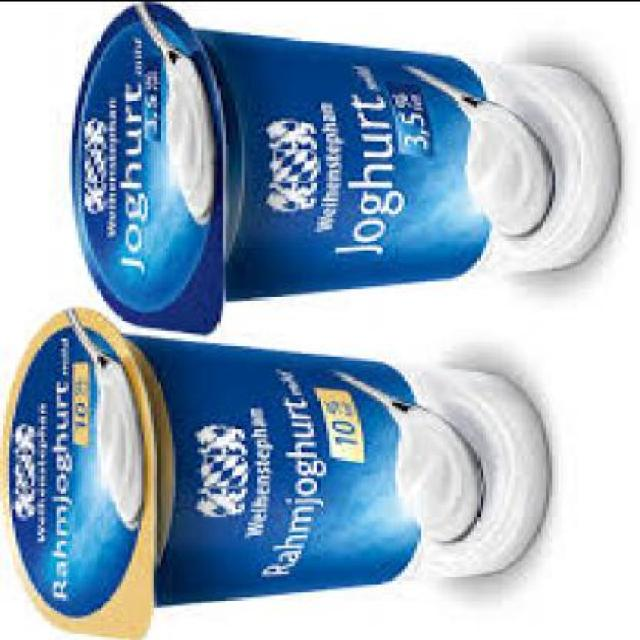PLASTIC: (66, 5, 612, 337), (0, 311, 548, 638)
